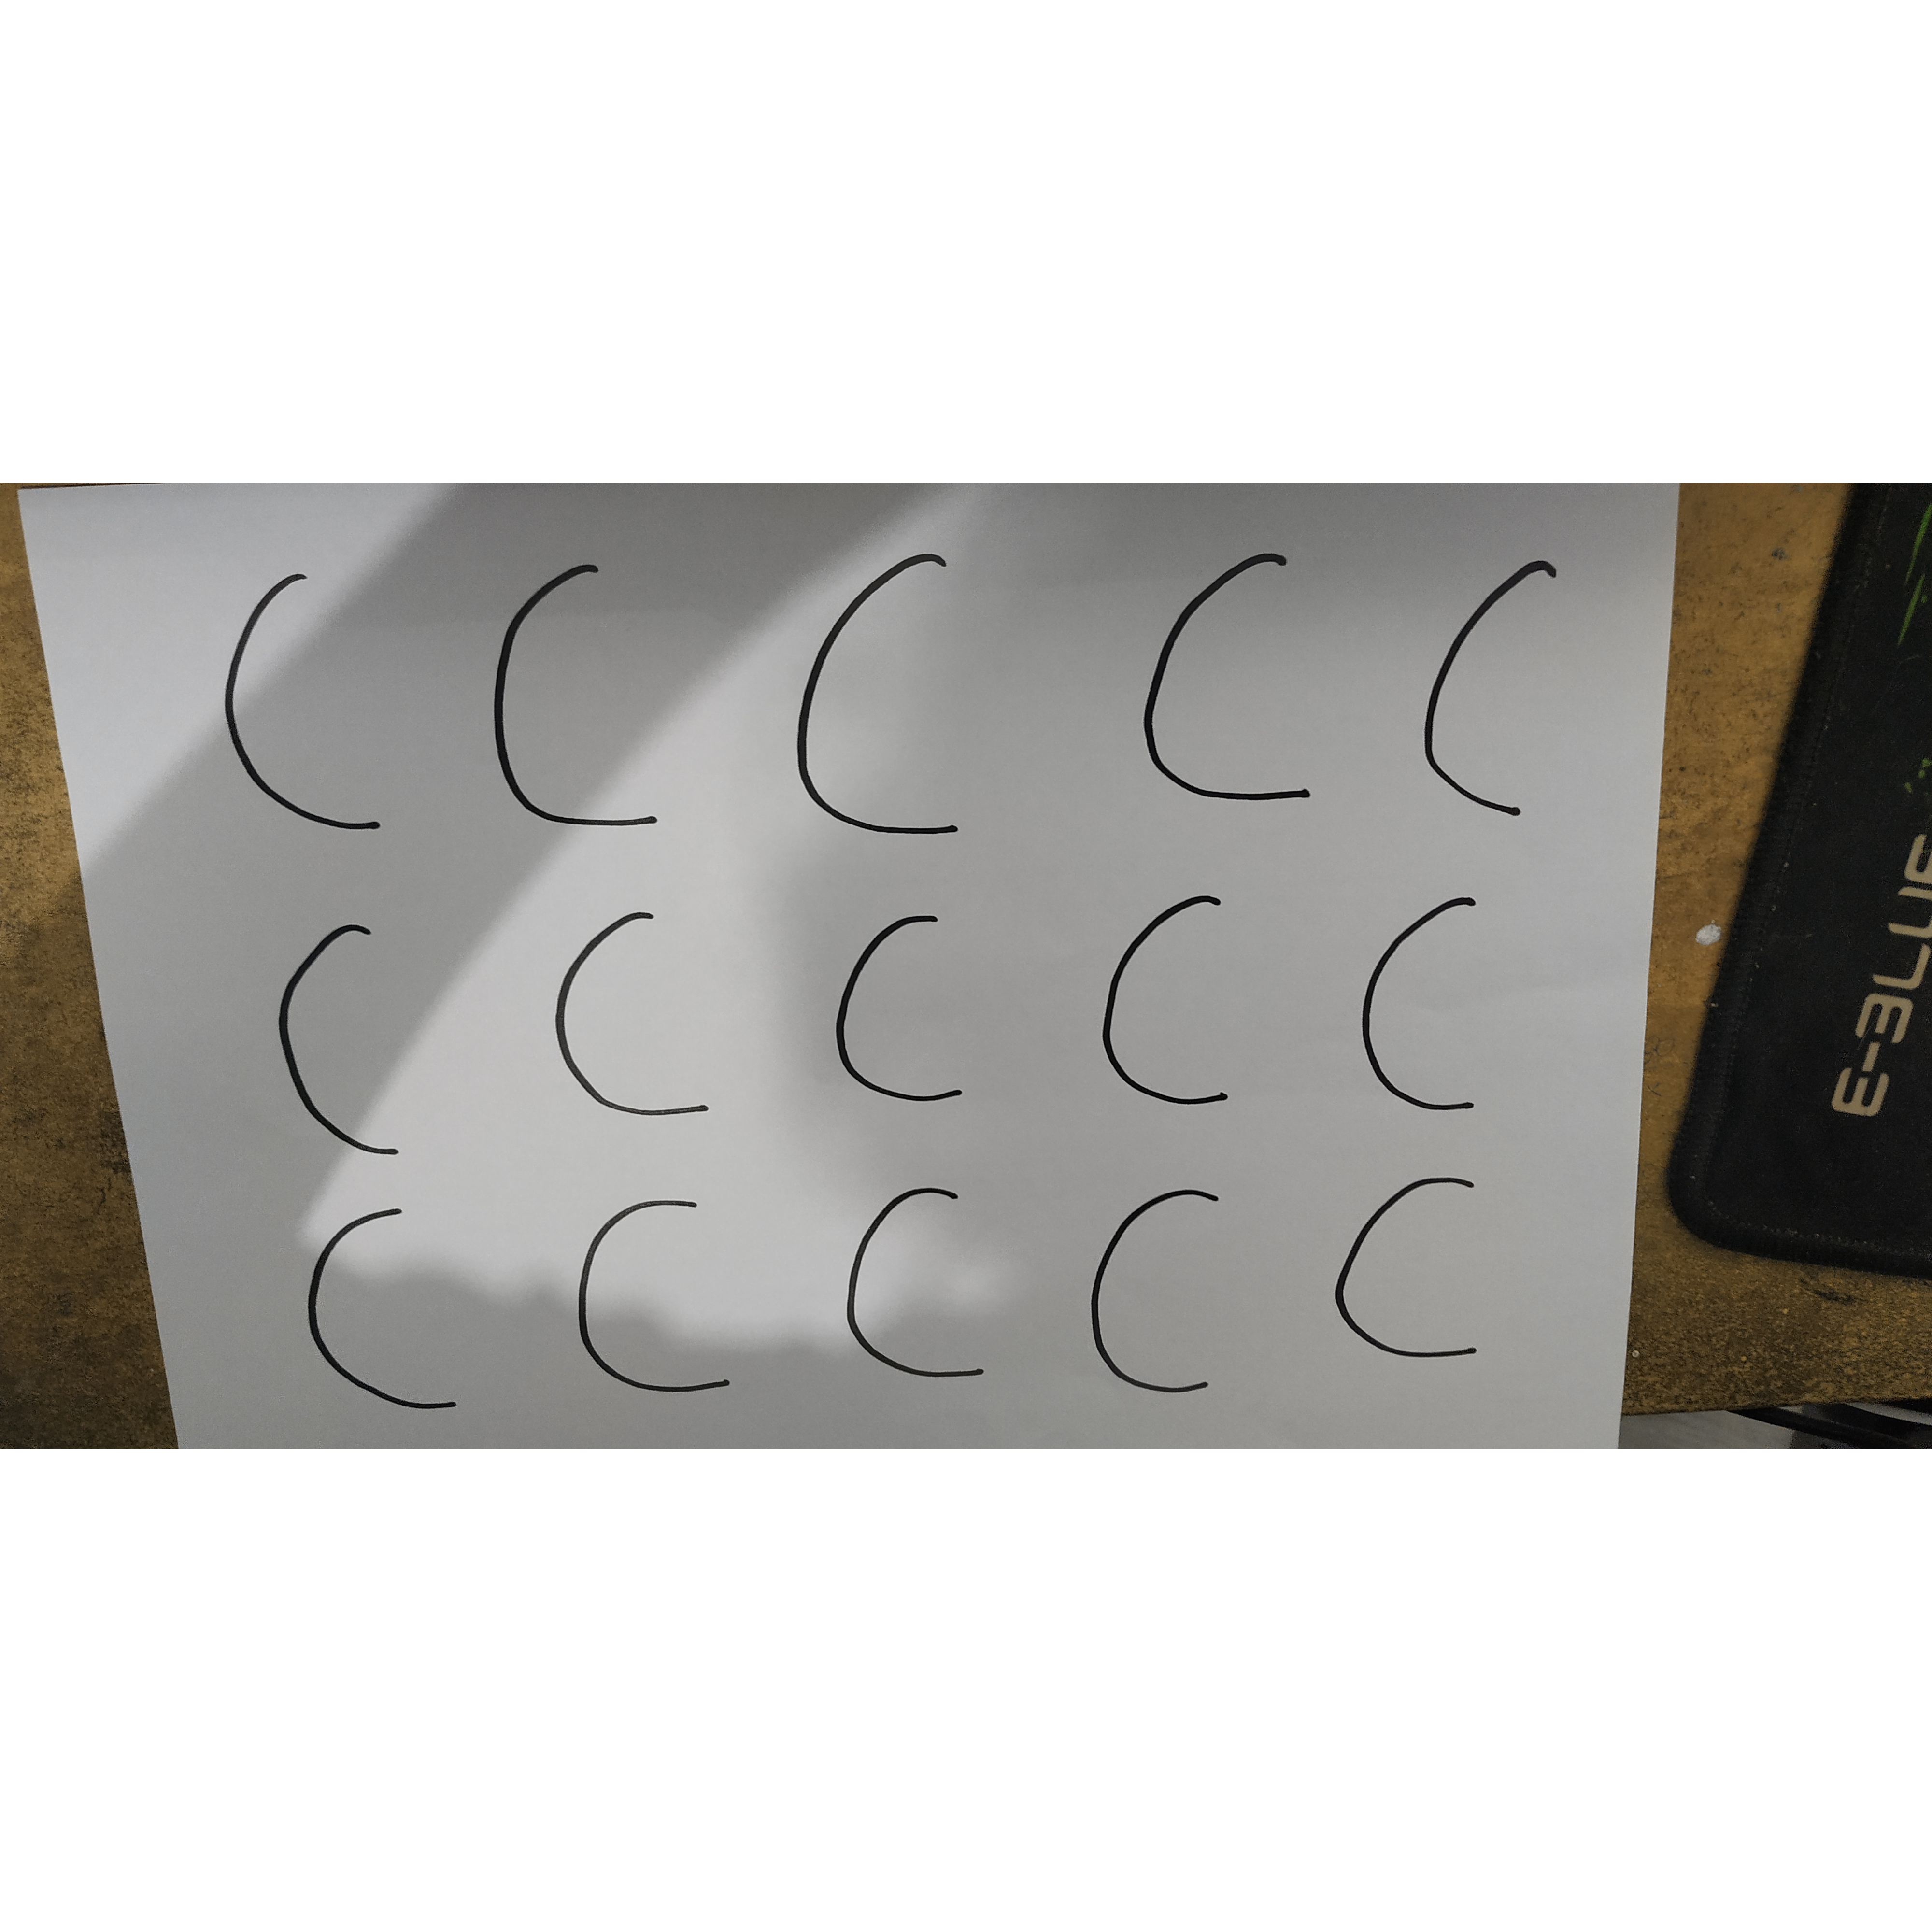openbracket: (188, 552, 440, 846), (1118, 536, 1362, 821), (786, 538, 1000, 854), (469, 546, 687, 854), (249, 909, 446, 1176), (1406, 536, 1582, 832), (1311, 1161, 1532, 1382), (557, 1189, 771, 1413), (539, 905, 744, 1132), (286, 1197, 492, 1424), (1084, 886, 1278, 1122), (835, 1178, 1030, 1392), (1349, 882, 1508, 1134), (818, 901, 988, 1138), (1072, 1182, 1244, 1401)
